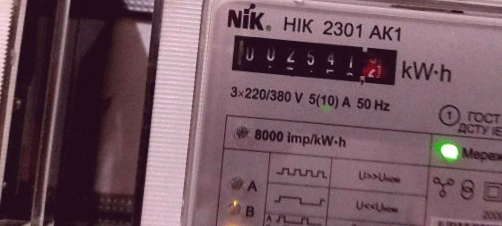0: (241, 40, 256, 62), (262, 40, 276, 62)
1: (343, 46, 356, 70)
2: (282, 41, 298, 65)
4: (323, 44, 336, 66)
5: (302, 43, 317, 67)
6: (364, 65, 377, 78)
screen: (217, 22, 410, 95)
